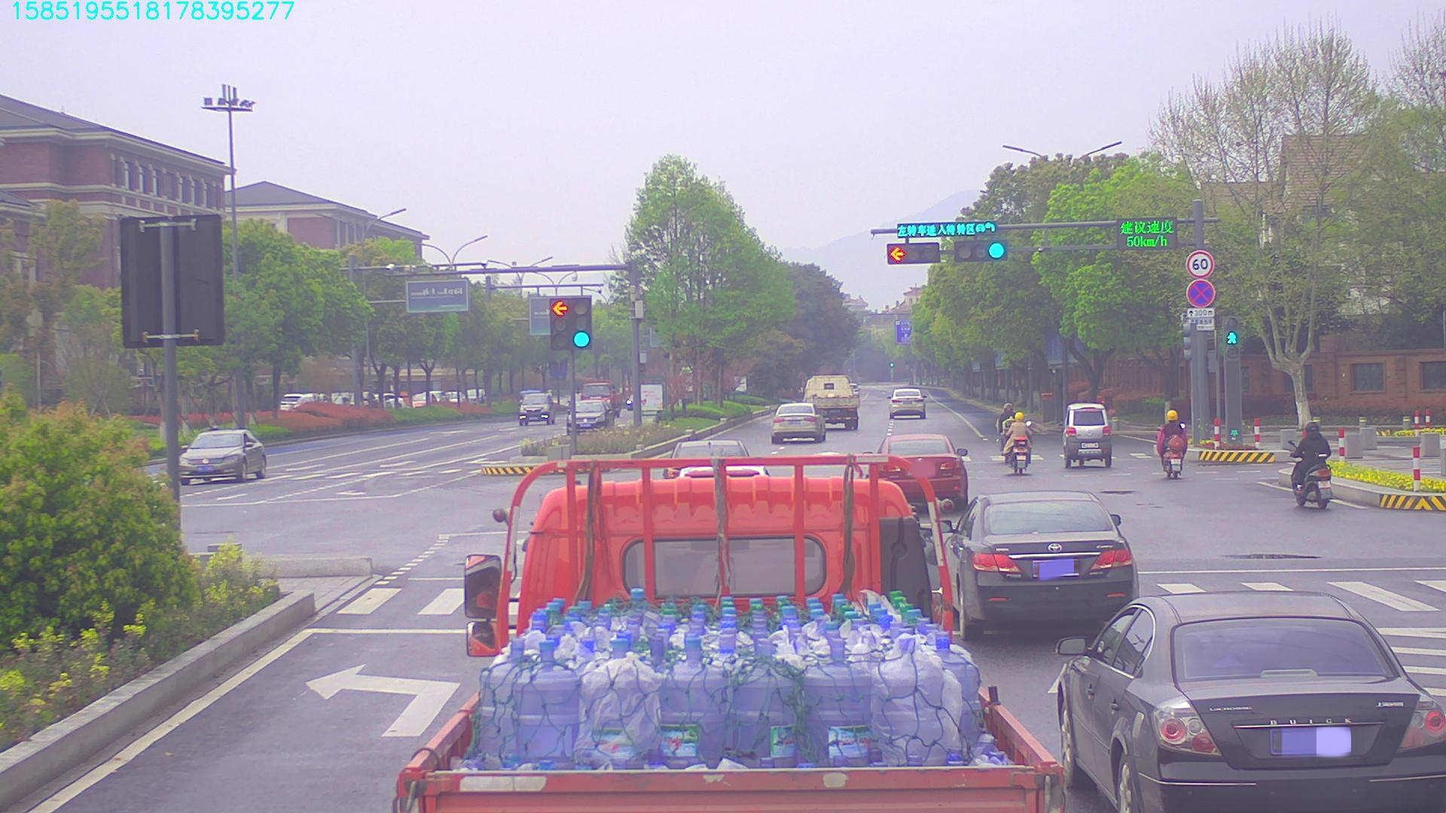green: (959, 238, 1010, 266)
red: (890, 244, 933, 263)
wait_on: (898, 221, 999, 237)
